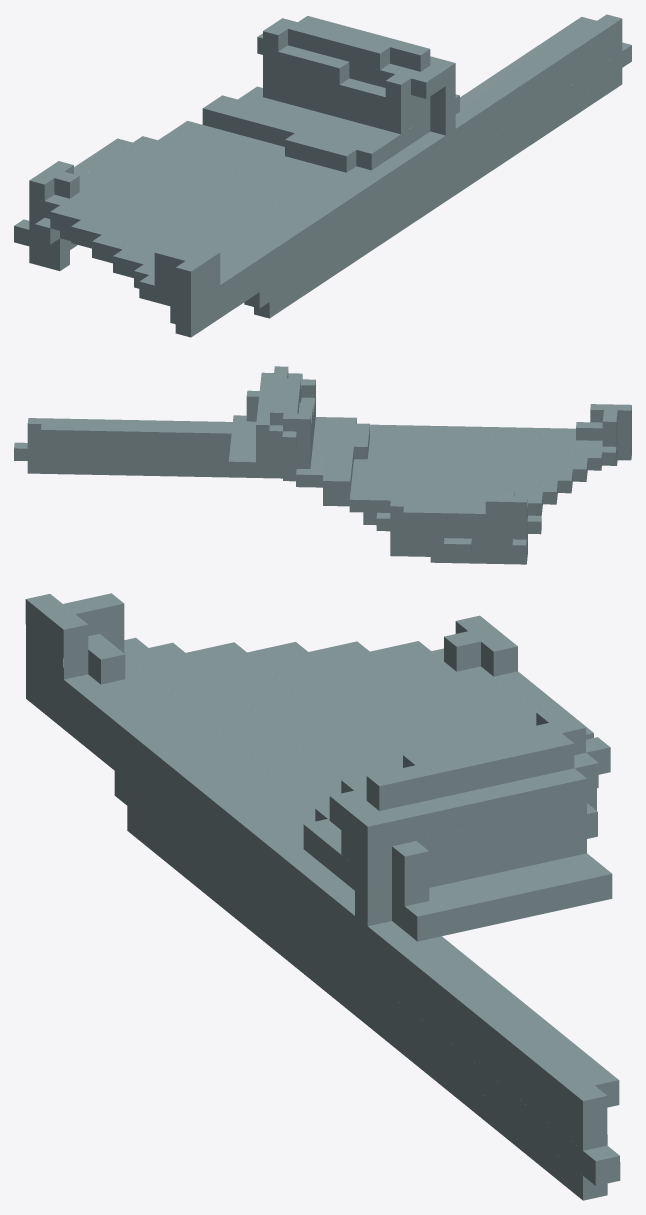
3 renders of one model, top to bottom at view 1: azimuth 30°, elevation 25°; view 2: azimuth 150°, elevation 25°; view 3: azimuth 270°, elevation 25°, orthographic. The views are drawn at different scales.
Parts seen in each view (by area): view 1: measured-industrial; view 2: measured-industrial; view 3: measured-industrial.
Boxes of the visible parts, x1,y1,x2,y2 form: measured-industrial: (14,14,631,337); measured-industrial: (14,366,631,564); measured-industrial: (25,593,620,1200).
Bounding box in the file's own units: 41.1 × 9.01 × 21.64.
